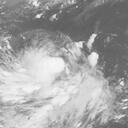cyclone: (17, 29, 112, 120)
